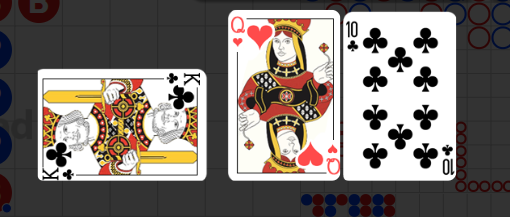10C: (346, 20, 361, 54)
KC: (162, 71, 202, 90), (42, 166, 78, 181)
